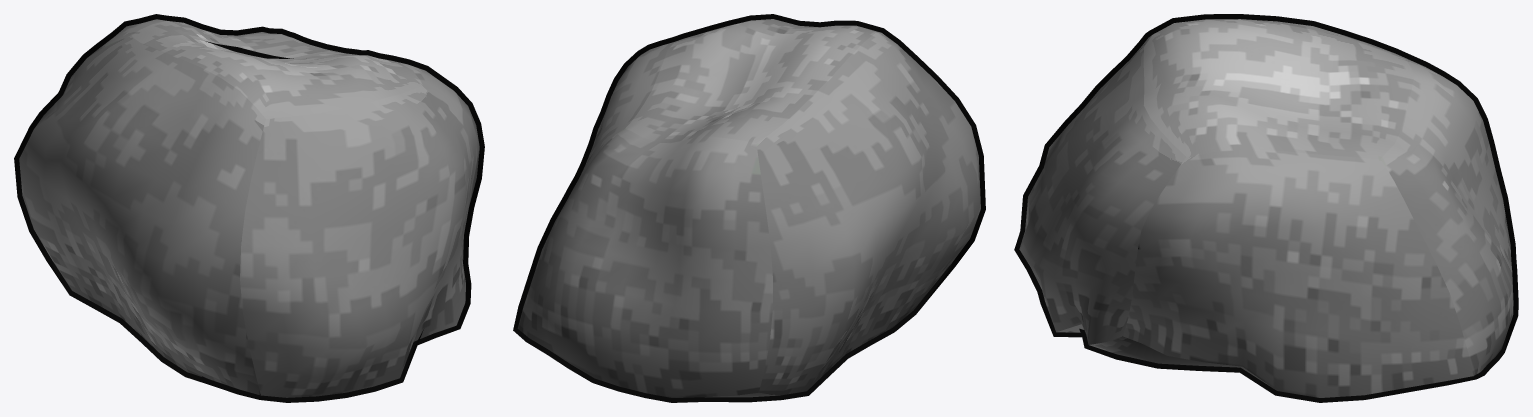
File: stone2 no moss.fbx
3 renders of one model, left to right at view 1: azimuth 30°, elevation 25°; view 2: azimuth 150°, elevation 25°; view 3: azimuth 270°, elevation 25°, orthographic. The views are drawn at different scales.
Parts seen in each view (by area): view 1: Stone2 WO Moss, OL Stone004; view 2: Stone2 WO Moss, OL Stone004; view 3: Stone2 WO Moss, OL Stone004.
Boxes of the visible parts, box(x1,y1,x2,y2) form: Stone2 WO Moss: box(19, 19, 479, 397); OL Stone004: box(14, 14, 484, 402); Stone2 WO Moss: box(517, 19, 980, 397); OL Stone004: box(513, 14, 985, 402); Stone2 WO Moss: box(1019, 19, 1513, 397); OL Stone004: box(1014, 14, 1518, 402).
Size of the model in its own units: 15.67 by 12.31 by 19.5.
2 materials, 1 textured.
